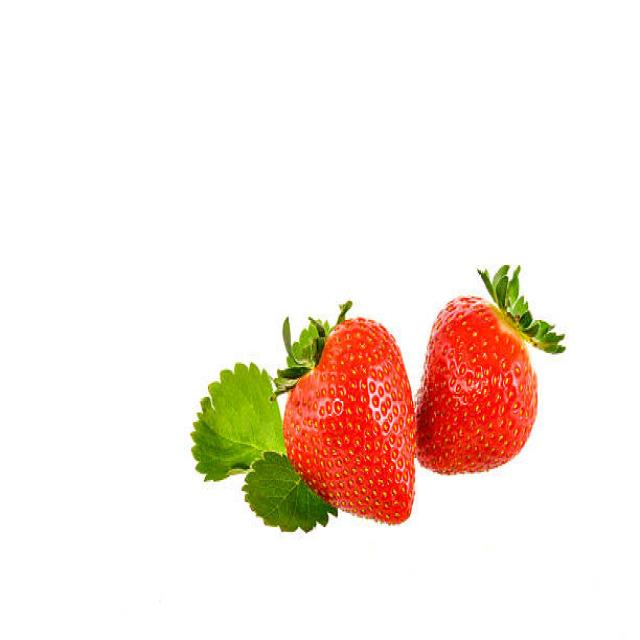Healthy Fruit: (284, 315, 416, 525), (414, 298, 539, 474)
